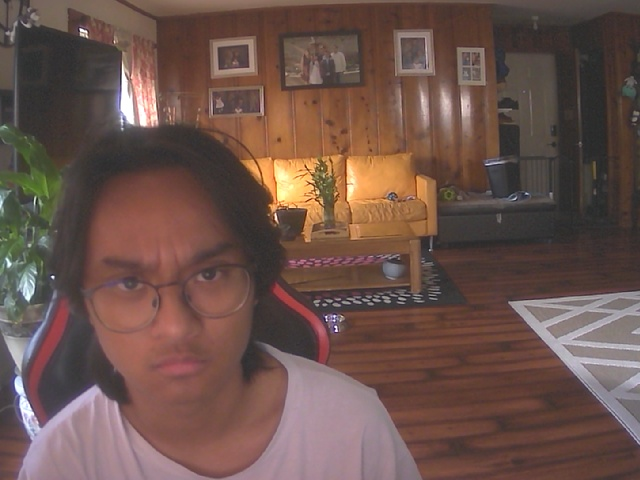anger: (72, 142, 271, 413)
